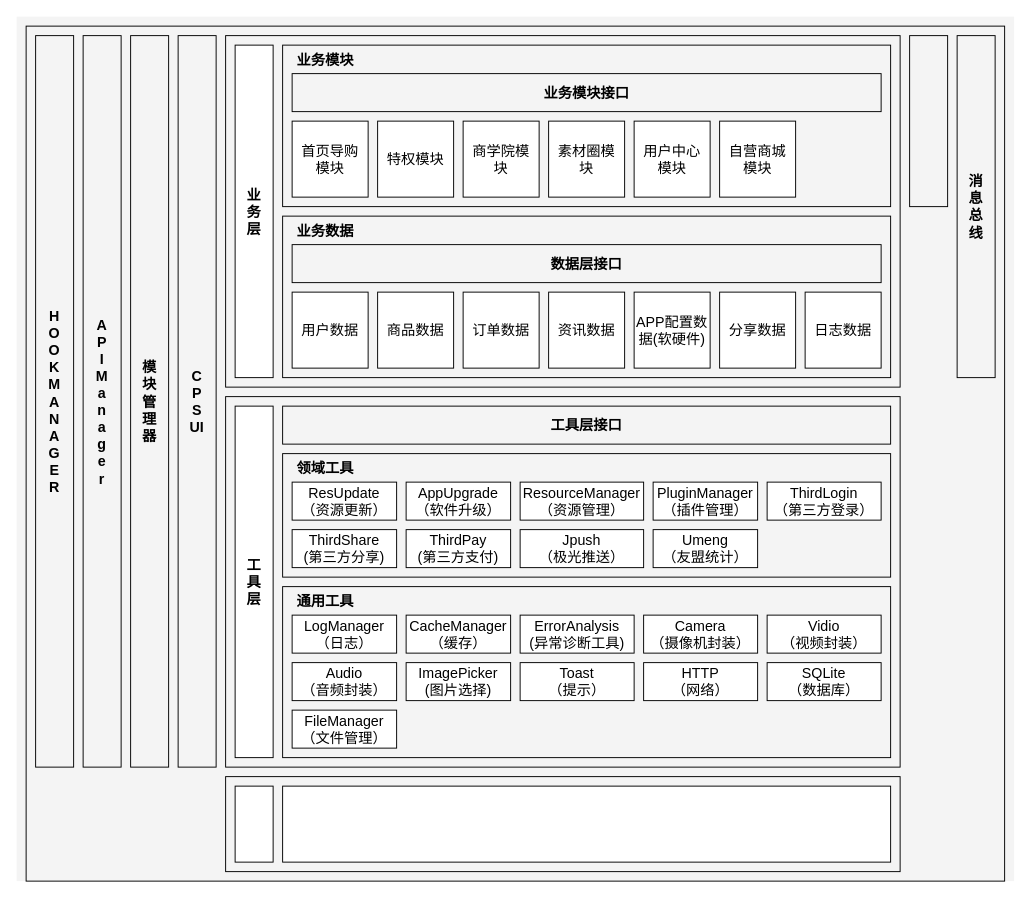
This 1030x898 diagram has some shape labels left out. The shapes that lost their labels are listed below. From the top down, each one's centre as x and y in pixels, then its label:
At point (928, 121): "路 由 总 线".
At point (253, 823): "S D K 层".
At point (586, 823): "系统SDK".
